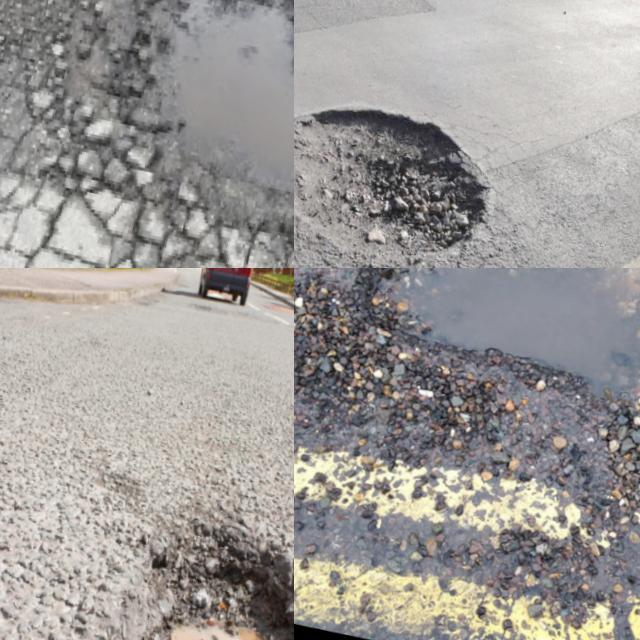Potholes: (294, 268, 640, 497), (23, 0, 294, 268), (294, 24, 550, 268), (78, 449, 294, 640)
